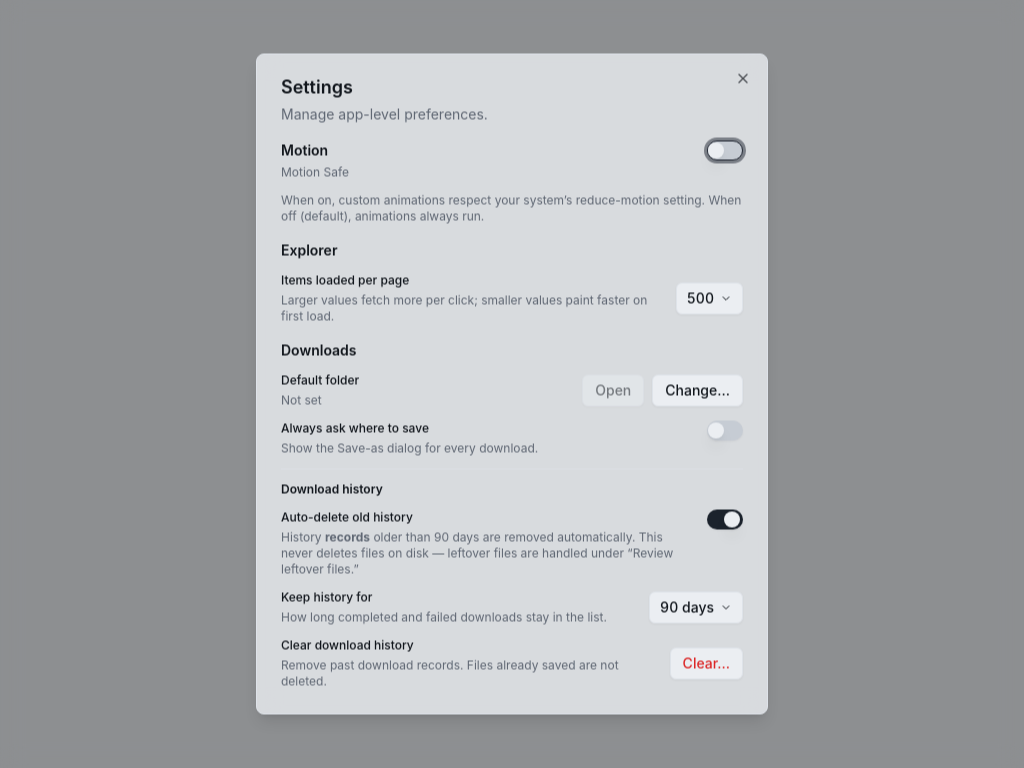
it: SettingsDialog — Downloads section › toggling the Always-ask Switch ON writes 'yes' to the localStorage key
Click the switch named "always ask where to save" at (725, 430), box x1=707 y1=420 x2=743 y2=440
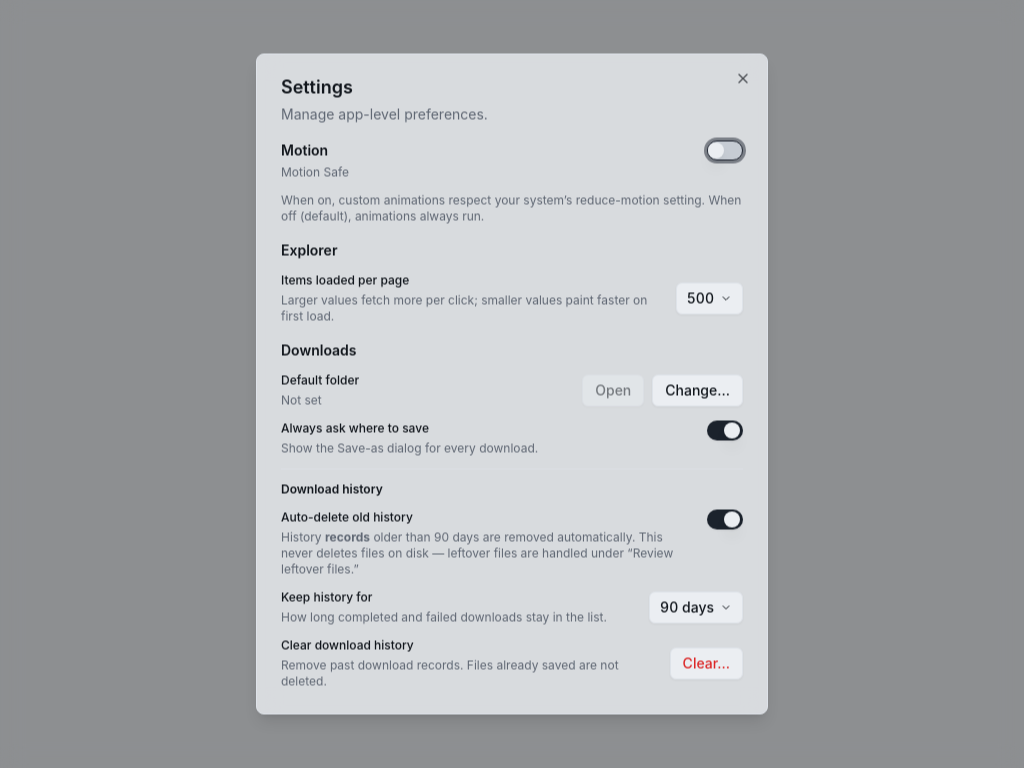
Check: the switch named "always ask where to save" is checked, box x1=707 y1=420 x2=743 y2=440
